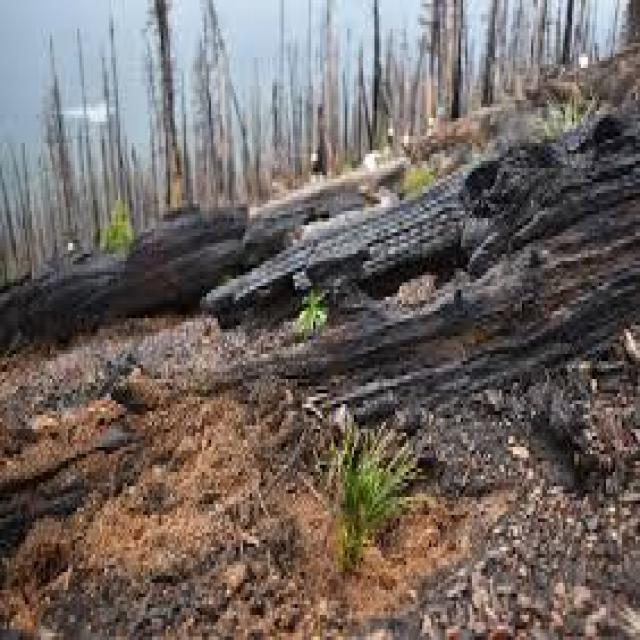Forest Fire: (164, 176, 550, 398)
